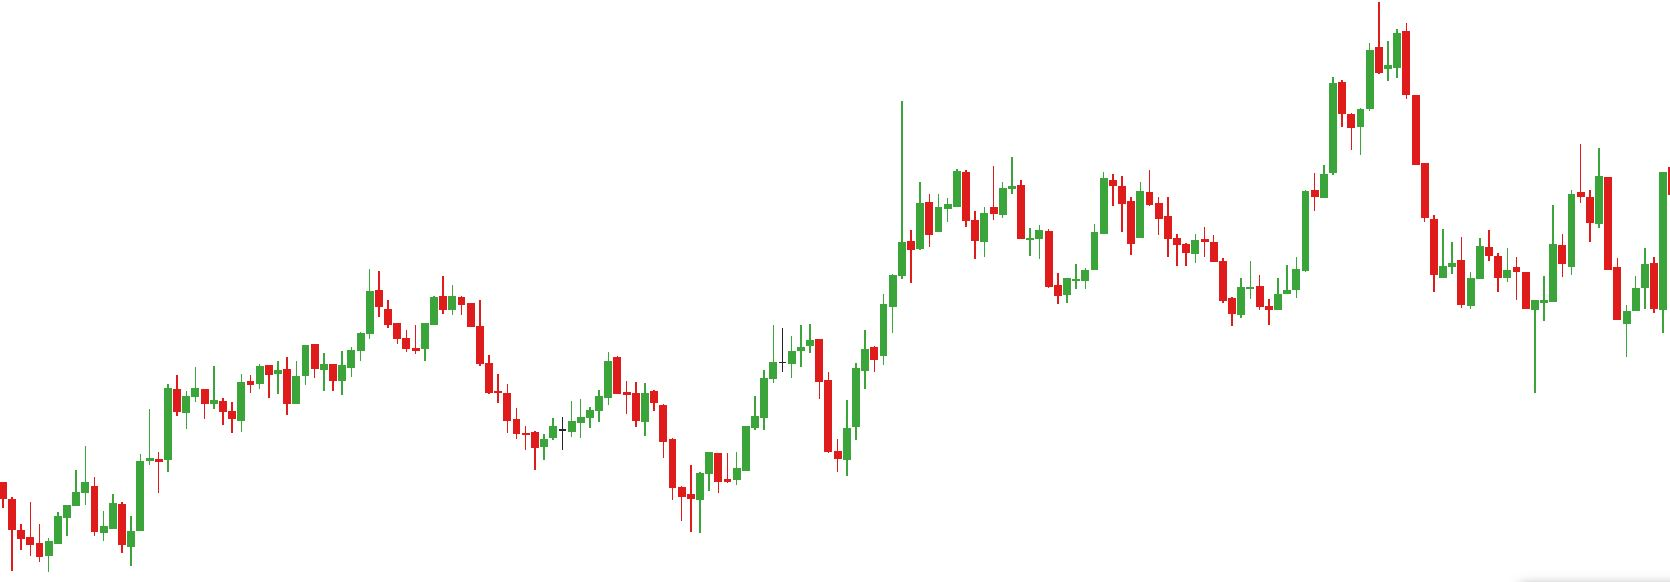buy: (530, 398, 715, 533), (1457, 249, 1542, 407)
sell: (1337, 4, 1413, 130), (954, 150, 1027, 216), (1098, 166, 1155, 224)
